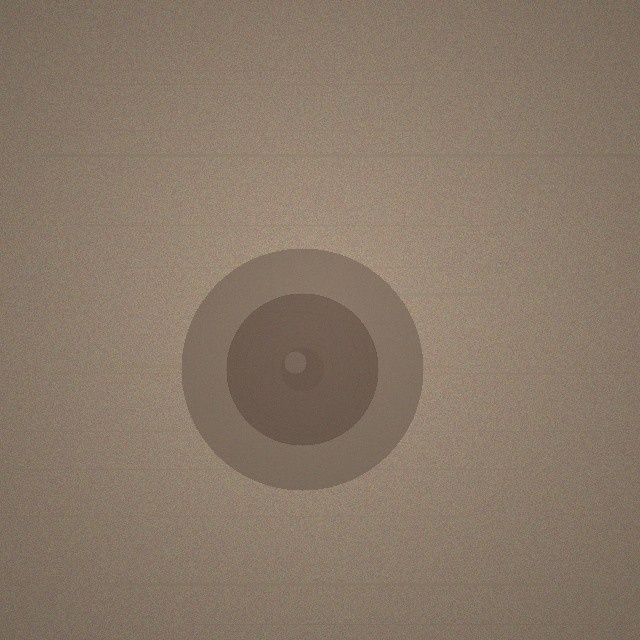good: (181, 248, 423, 490)
